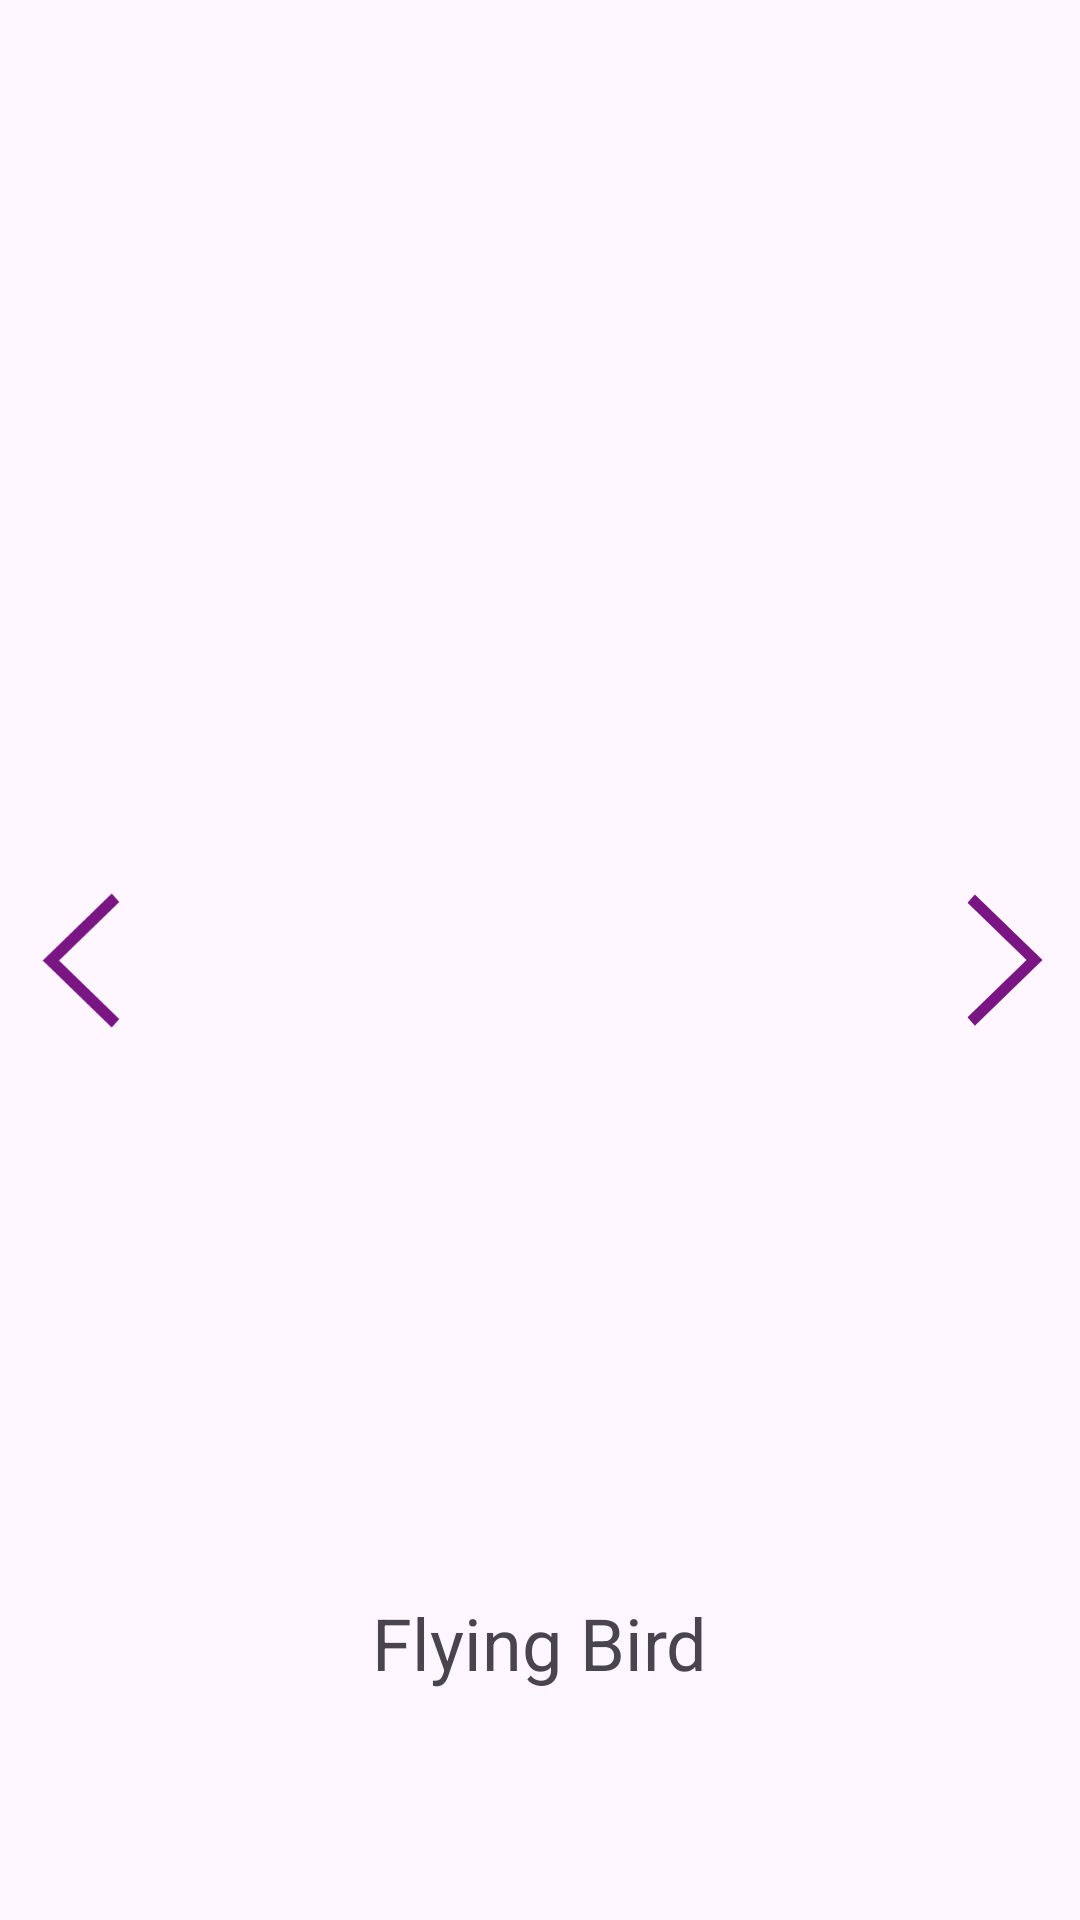

Icons on this 1080*1920 Android screen, each with its box as (x1, y1, x2, y2):
left arrow backup: (42, 893, 120, 1028)
right arrow backup: (967, 894, 1043, 1026)
